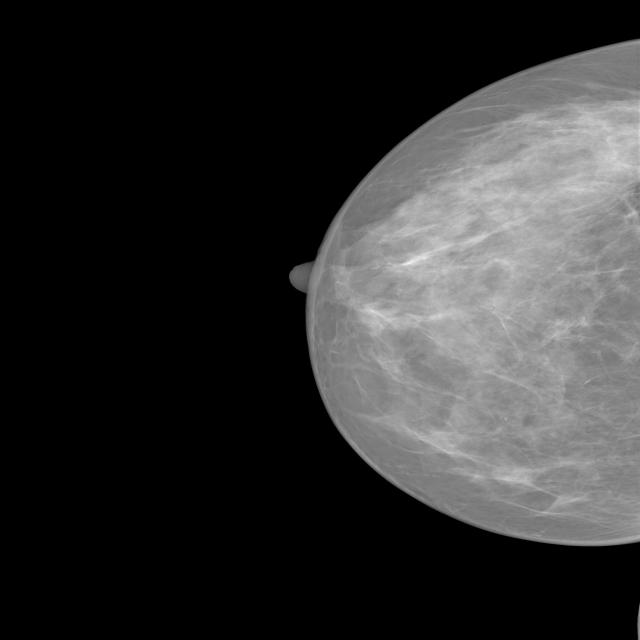Mass_1: (483, 455, 550, 497)
